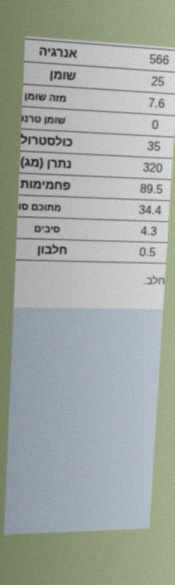carbs: (138, 181, 165, 197)
energy: (147, 51, 171, 69)
fat: (149, 73, 166, 90)
protein: (138, 244, 157, 260)
